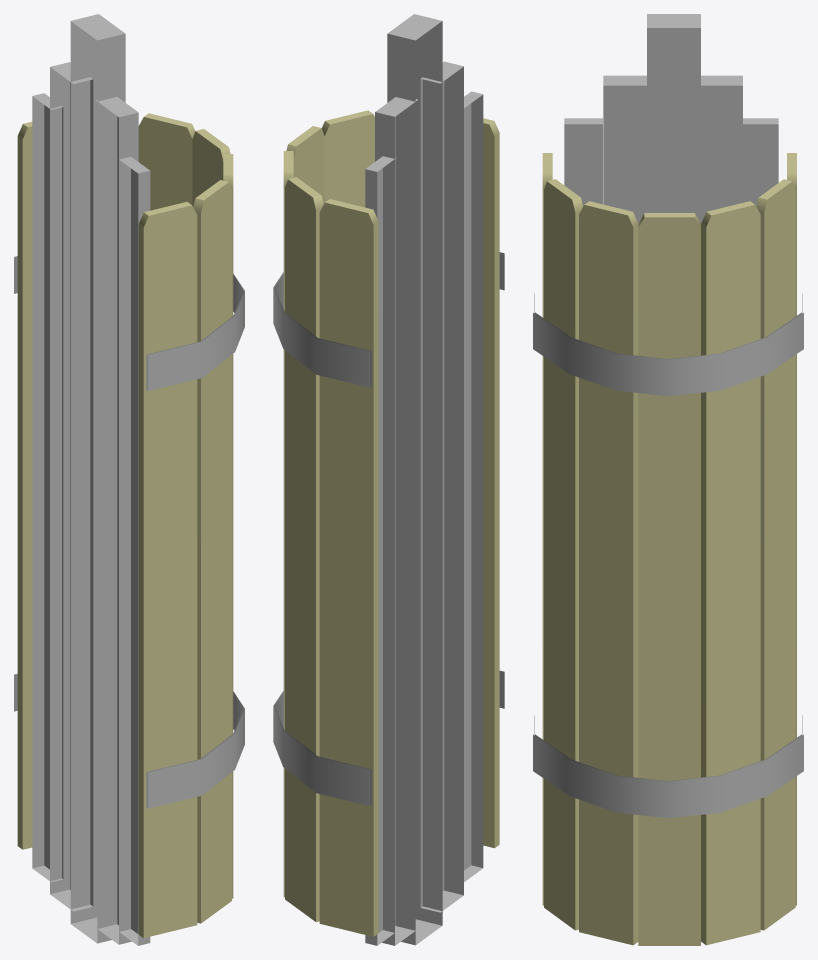
File: Wall Light.fbx
3 renders of one model, left to right at view 1: azimuth 30°, elevation 25°; view 2: azimuth 150°, elevation 25°; view 3: azimuth 270°, elevation 25°, orthographic.
Parts seen in each view (by area): view 1: pPlane1, pPlane10, pPlane9, pPlane5, pPlane3, pPlane6, pPlane13, pPlane7, pPlane11, pCylinder3, pCylinder1, pPlane4 (+3 smaller); view 2: pPlane1, pPlane13, pPlane12, pPlane6, pPlane7, pPlane10, pPlane5, pPlane3, pPlane8, pCylinder1, pCylinder3, pPlane4 (+3 smaller); view 3: pPlane4, pPlane8, pPlane11, pPlane12, pPlane9, pPlane1, pCylinder1, pCylinder3, pPlane6, pPlane5, pPlane7, pPlane3 (+2 smaller).
Boxes of the visible parts, left/top/right/bottom form: pPlane1: left=70, top=14, right=125, bottom=943; pPlane10: left=138, top=202, right=197, bottom=938; pPlane9: left=193, top=180, right=231, bottom=923; pPlane5: left=50, top=62, right=93, bottom=911; pPlane3: left=32, top=93, right=63, bottom=882; pPlane6: left=95, top=97, right=138, bottom=944; pPlane13: left=17, top=121, right=32, bottom=849; pPlane7: left=119, top=156, right=150, bottom=945; pPlane11: left=138, top=113, right=195, bottom=210; pCylinder3: left=14, top=673, right=244, bottom=808; pCylinder1: left=14, top=256, right=244, bottom=390; pPlane4: left=192, top=129, right=230, bottom=206; pPlane1: left=387, top=14, right=442, bottom=945; pPlane13: left=319, top=199, right=378, bottom=936; pPlane12: left=285, top=177, right=323, bottom=922; pPlane6: left=420, top=61, right=463, bottom=912; pPlane7: left=464, top=91, right=483, bottom=881; pPlane10: left=483, top=118, right=499, bottom=848; pPlane5: left=375, top=97, right=418, bottom=945; pPlane3: left=365, top=156, right=395, bottom=945; pPlane8: left=322, top=110, right=374, bottom=207; pCylinder1: left=273, top=252, right=504, bottom=387; pCylinder3: left=273, top=670, right=504, bottom=805; pPlane4: left=286, top=126, right=324, bottom=204; pPlane4: left=638, top=213, right=700, bottom=945; pPlane8: left=579, top=201, right=638, bottom=945; pPlane11: left=701, top=201, right=760, bottom=945; pPlane12: left=756, top=179, right=795, bottom=930; pPlane9: left=544, top=179, right=582, bottom=930; pPlane1: left=647, top=14, right=700, bottom=222; pCylinder1: left=533, top=313, right=803, bottom=396; pCylinder3: left=533, top=734, right=803, bottom=818; pPlane6: left=603, top=75, right=646, bottom=223; pPlane5: left=701, top=75, right=742, bottom=223; pPlane7: left=564, top=118, right=602, bottom=206; pPlane3: left=743, top=118, right=778, bottom=206.
Bounding box in the file's own units: 4.56 × 26.16 × 7.04.
